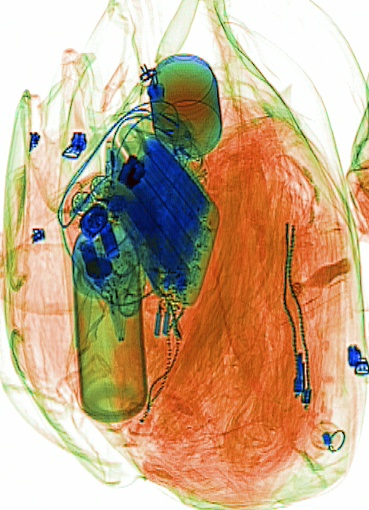powerbank: (104, 135, 222, 306)
